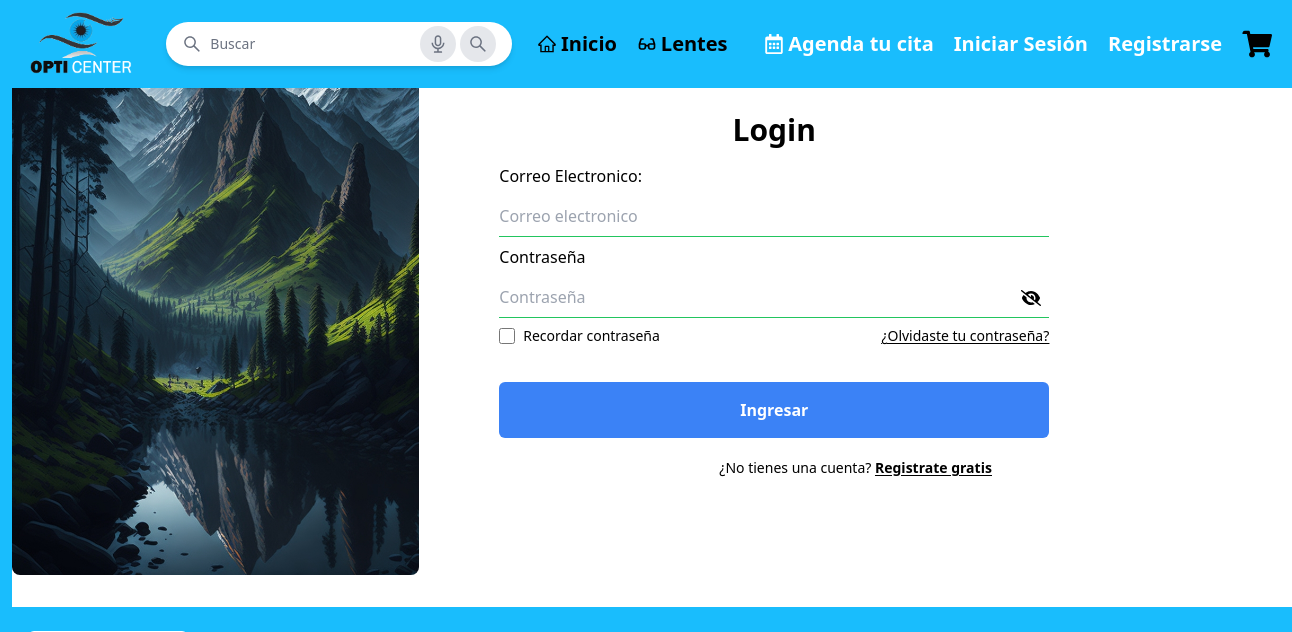
it: Validación de Campos › Mostrar error cuando la contraseña está vacía en el formulario de inicio de sesión
This screenshot has width=1292, height=632.
Type "test@example.com" into the field with placeholder "Correo electronico".
click(774, 217); type("test@example.com")  # box [499,196,1049,237]
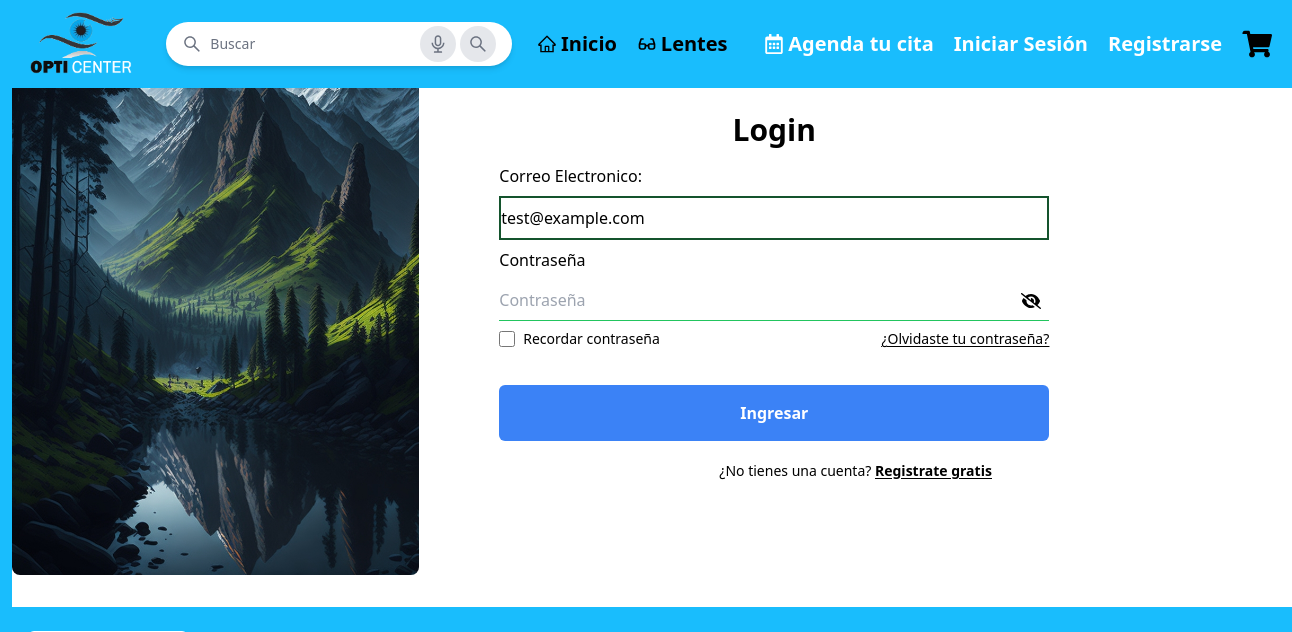
Click the submit button.
click(774, 413)  # box [499,385,1049,441]
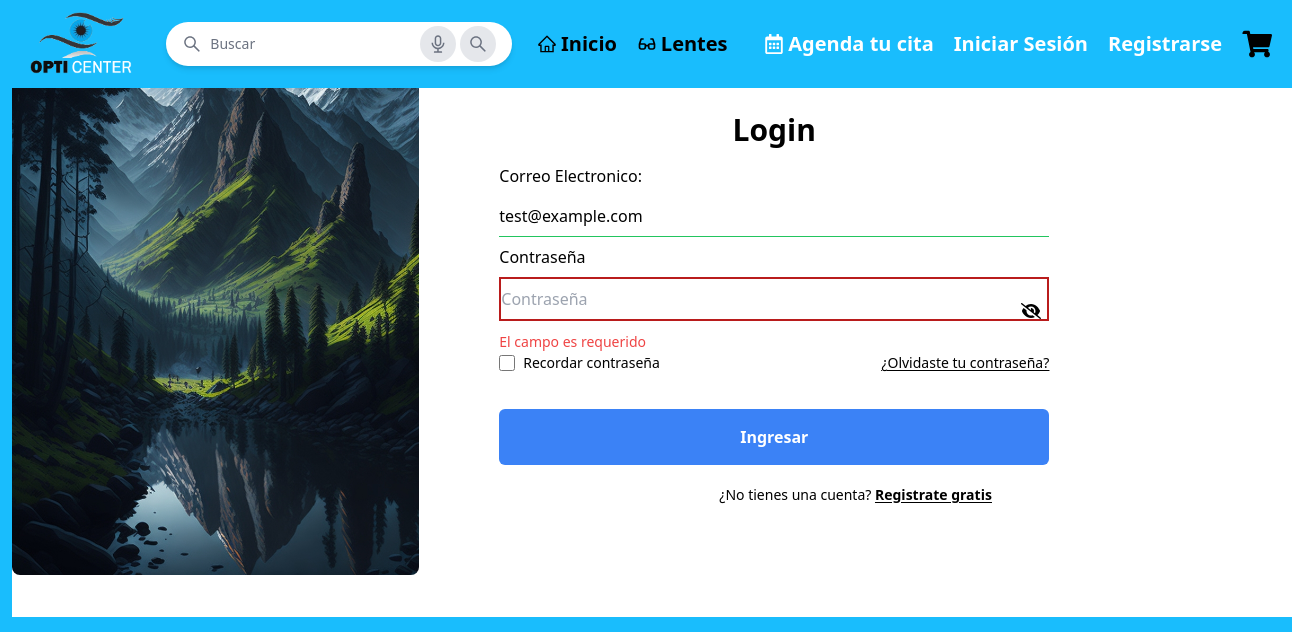
Expected: the text "El campo es requerido" is shown, [499,332,646,351]
